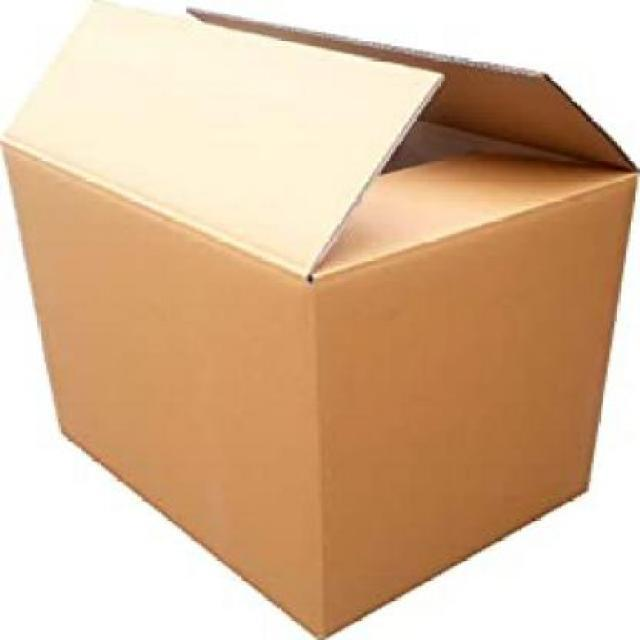box: (5, 5, 640, 639)
